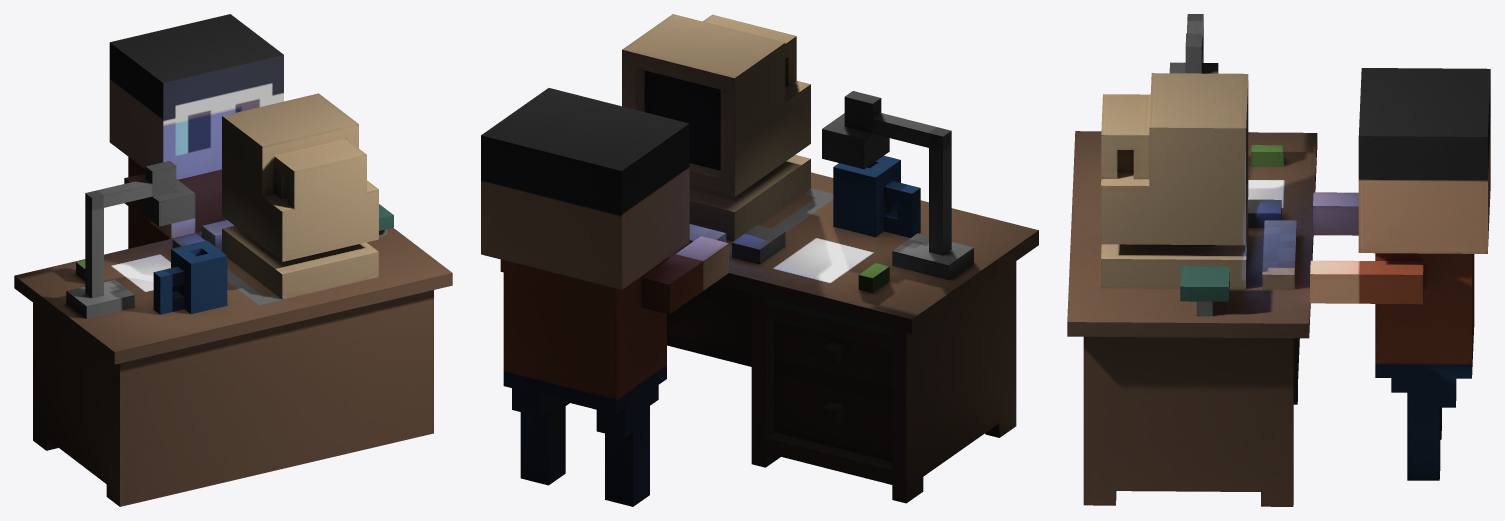
Rendered from guy.glb.
3 renders of one model, left to right at view 1: azimuth 30°, elevation 25°; view 2: azimuth 150°, elevation 25°; view 3: azimuth 270°, elevation 25°, orthographic. The views are drawn at different scales.
Visible parts, largest first — view 1: guy_at_desk; view 2: guy_at_desk; view 3: guy_at_desk.
Part boxes in pixels (x1,y1,x2,y2): guy_at_desk: [14, 14, 452, 506]; guy_at_desk: [481, 14, 1038, 506]; guy_at_desk: [1067, 14, 1490, 506].
Size of what is drawn, in the model's own units: 2.83 by 2.4 by 2.62.
1 material, 1 textured.
